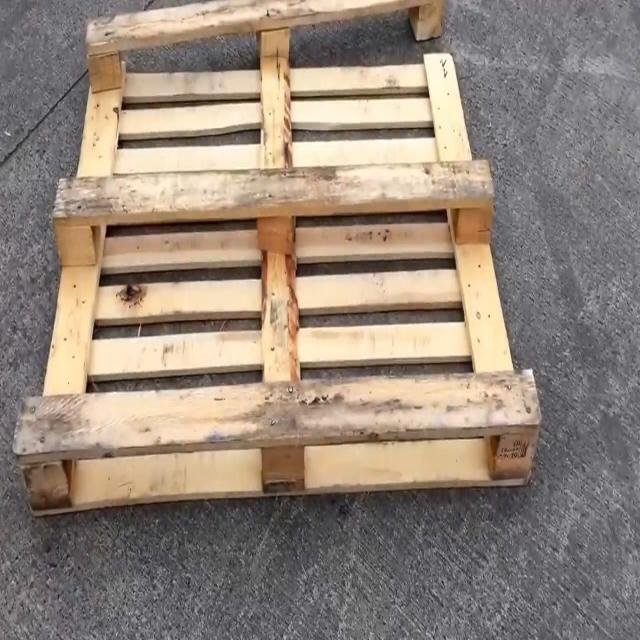Palette: (8, 0, 544, 501)
